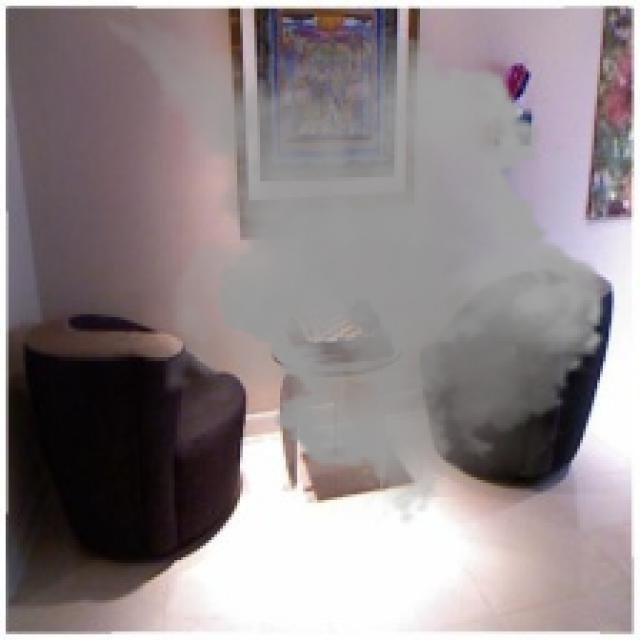Smoke: (77, 6, 620, 526)
